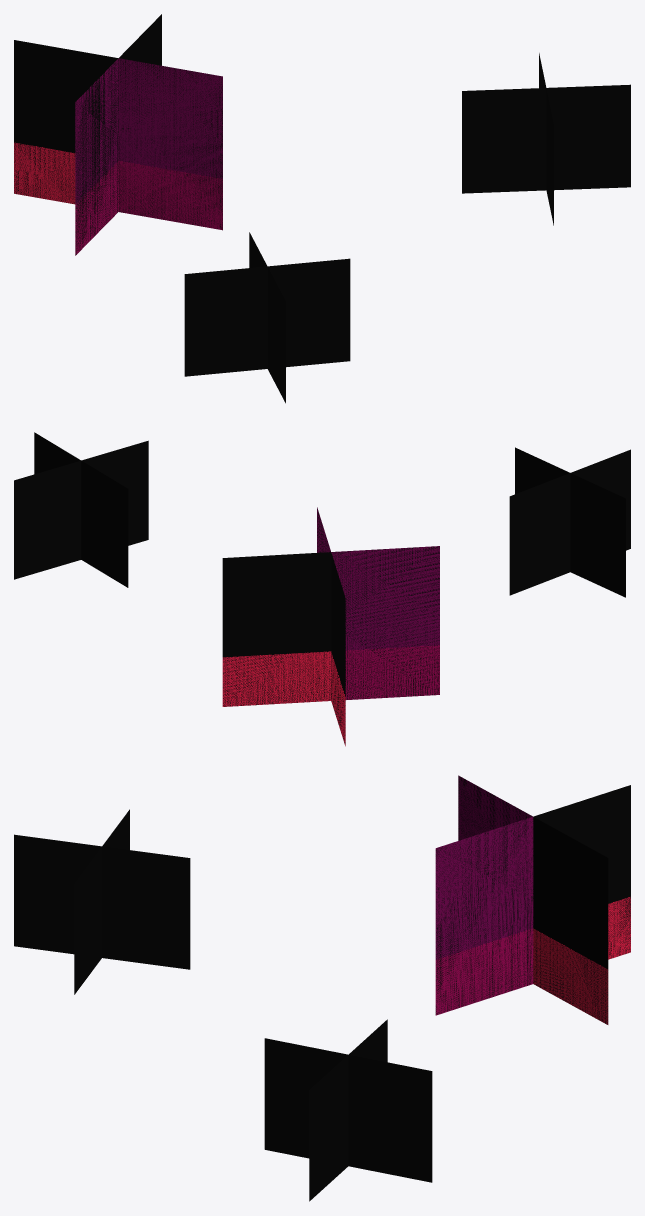
The model's file is crimson_crest_stage0.obj.
3 renders of one model, top to bottom at view 1: azimuth 30°, elevation 25°; view 2: azimuth 150°, elevation 25°; view 3: azimuth 270°, elevation 25°, orthographic. The views are drawn at different scales.
Visible parts, largest first — view 1: cube_4, cube_6, cube_8, cube_5, cube_9, cube_7; view 2: cube_5, cube_7, cube_9, cube_8, cube_6, cube_4; view 3: cube_4, cube_9, cube_7, cube_5, cube_6, cube_8.
Part boxes in pixels (bbox=[...]): cube_4: bbox=[14, 40, 222, 230]; cube_6: bbox=[462, 84, 630, 193]; cube_8: bbox=[184, 258, 350, 376]; cube_5: bbox=[75, 14, 161, 255]; cube_9: bbox=[249, 232, 285, 403]; cube_7: bbox=[539, 53, 553, 225]; cube_5: bbox=[222, 546, 439, 706]; cube_7: bbox=[14, 440, 148, 579]; cube_9: bbox=[509, 449, 630, 595]; cube_8: bbox=[515, 447, 625, 597]; cube_6: bbox=[34, 432, 128, 587]; cube_4: bbox=[317, 507, 345, 746]; cube_4: bbox=[435, 785, 630, 1015]; cube_9: bbox=[14, 834, 190, 969]; cube_7: bbox=[264, 1038, 432, 1182]; cube_5: bbox=[458, 775, 608, 1024]; cube_6: bbox=[309, 1019, 387, 1201]; cube_8: bbox=[74, 809, 129, 994].
Bounding box in the file's own units: 0.6744 × 0.1875 × 0.6261.
